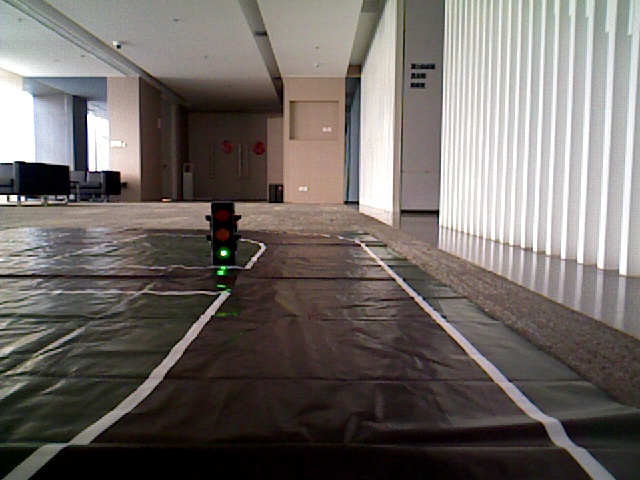green: (208, 200, 235, 258)
